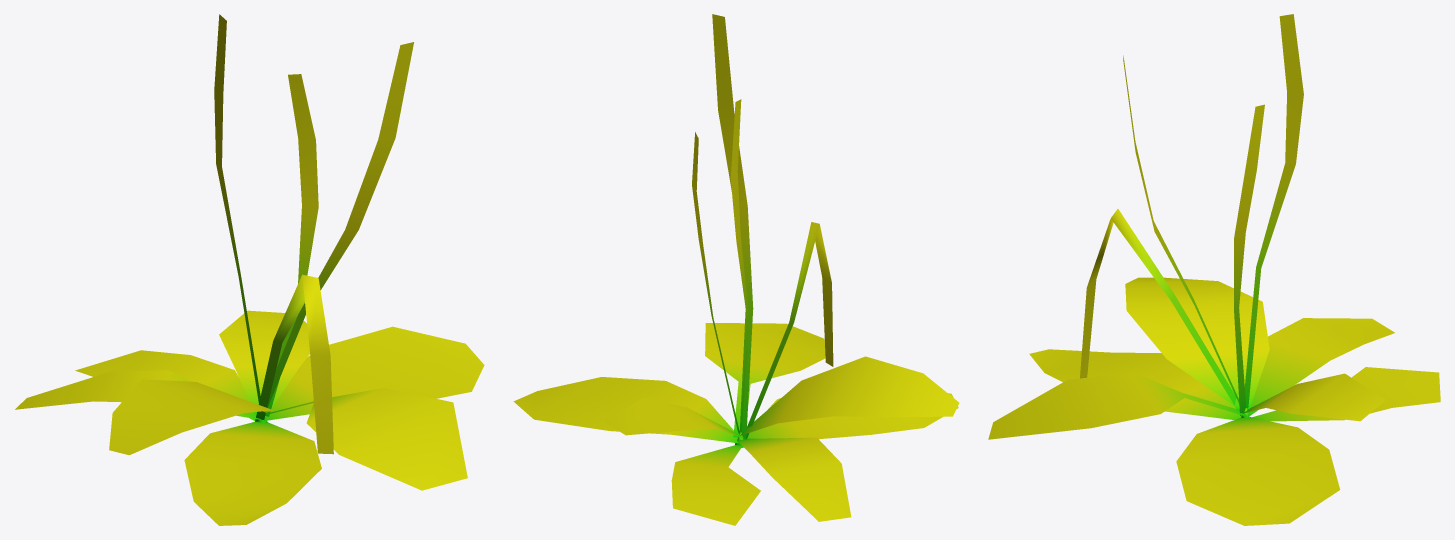
Rendered from Broadleaf Plantain_LOD2_Var3_sfhjc.fbx.
The picture shows the model from 3 angles, left to right: view 1: azimuth 30°, elevation 25°; view 2: azimuth 150°, elevation 25°; view 3: azimuth 270°, elevation 25°; orthographic projection. The views are drawn at different scales.
Visible parts, largest first — view 1: _5c9f_Var3_LOD2; view 2: _5c9f_Var3_LOD2; view 3: _5c9f_Var3_LOD2.
Part boxes in pixels (box(x1,y1,x2,y2)): _5c9f_Var3_LOD2: box(15, 14, 484, 525); _5c9f_Var3_LOD2: box(513, 14, 959, 525); _5c9f_Var3_LOD2: box(988, 14, 1440, 525).
Bounding box in the file's own units: 22.35 × 20.66 × 20.85.
